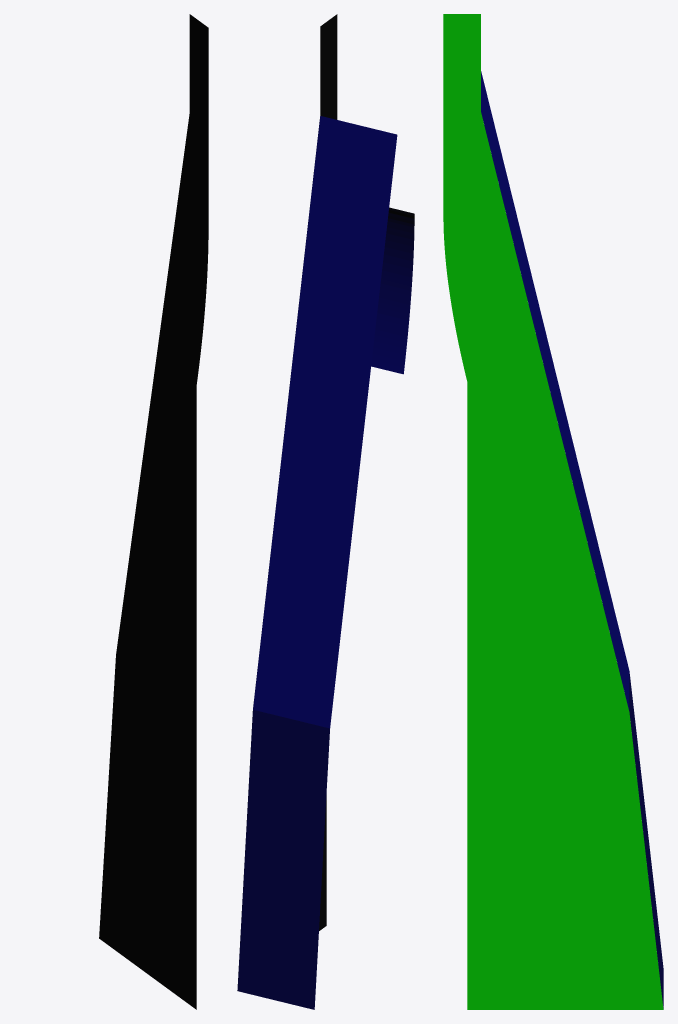
The model's file is scramjet_n2_m38.glb.
The picture shows the model from 3 angles, left to right: view 1: azimuth 30°, elevation 25°; view 2: azimuth 150°, elevation 25°; view 3: azimuth 270°, elevation 25°; orthographic projection. The views are drawn at different scales.
Parts seen in each view (by area): view 1: Renderer Node; view 2: Renderer Node; view 3: Renderer Node.
Boxes of the visible parts, bbox=[...] form: Renderer Node: bbox=[99, 14, 208, 1009]; Renderer Node: bbox=[237, 14, 414, 1009]; Renderer Node: bbox=[443, 14, 663, 1009].
Bounding box in the file's own units: 0.5005 × 5.6 × 1.12.
